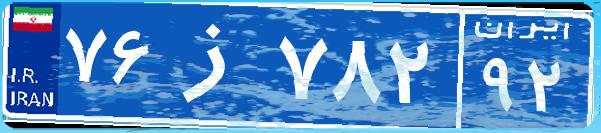2: (385, 28, 445, 110), (525, 38, 570, 115)
6: (110, 28, 158, 105)
7: (273, 28, 330, 110), (57, 26, 110, 107)
8: (330, 28, 385, 110)
9: (475, 38, 525, 113)
ز: (158, 15, 273, 115)
